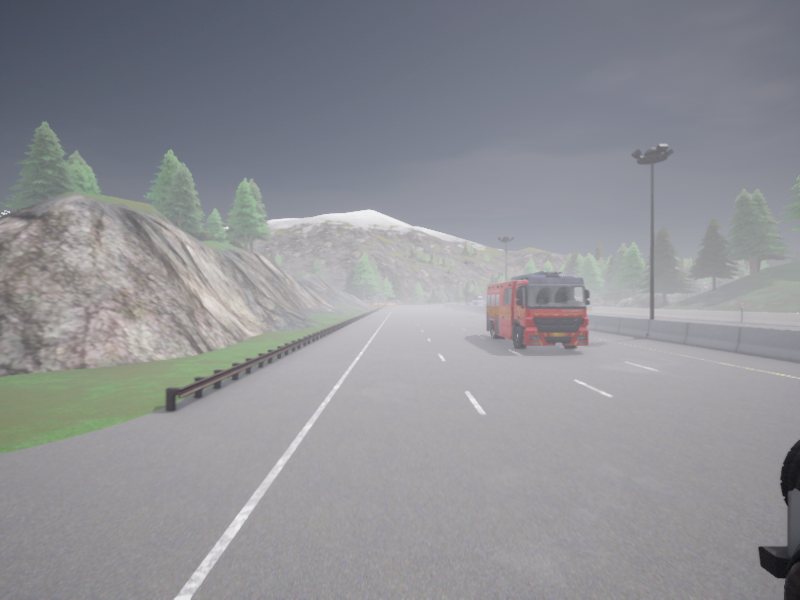vehicle: (486, 271, 589, 349), (758, 439, 799, 599), (473, 296, 485, 304), (474, 302, 477, 305), (456, 302, 460, 304), (467, 302, 470, 304), (483, 303, 485, 305)
